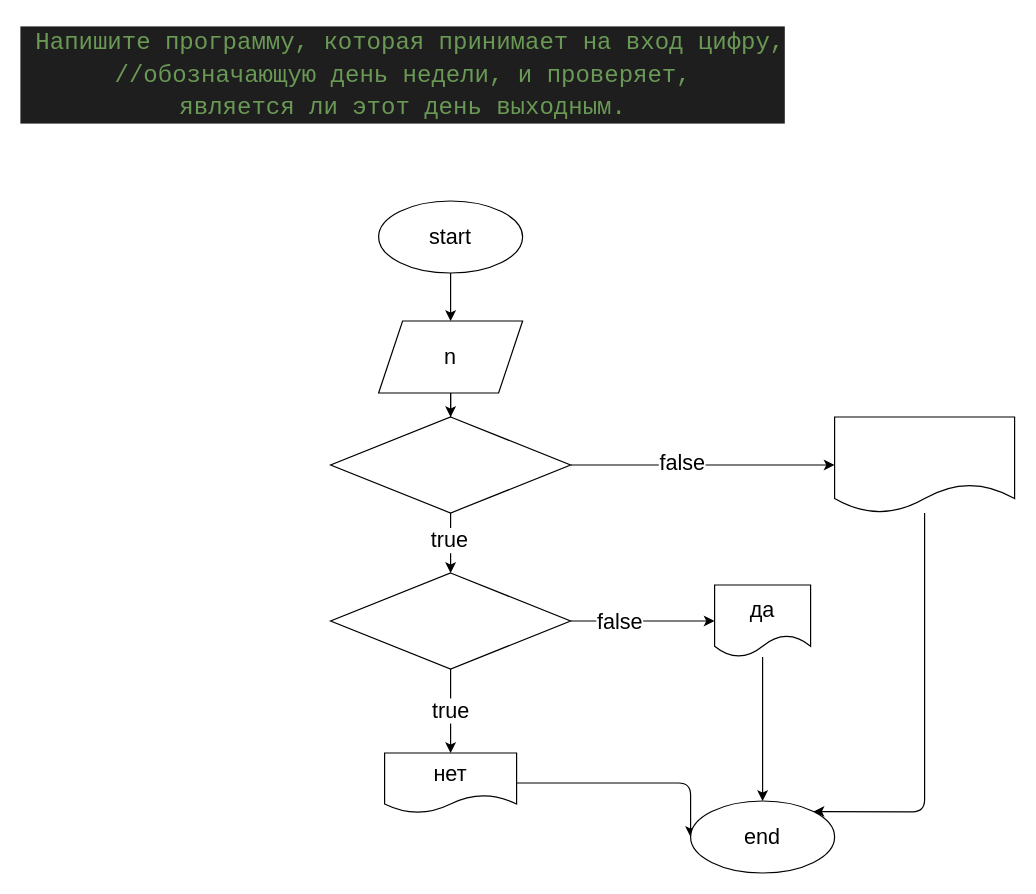
Image size: 1036x894. Some labels were removed from this diagram. Here are the shapes that lost their labels. From the top down, the centre of each, then its label:
the point at 450,464: n>=1 и n<8
the point at 924,464: не является днем недели
the point at 450,620: n=6 или n=7
